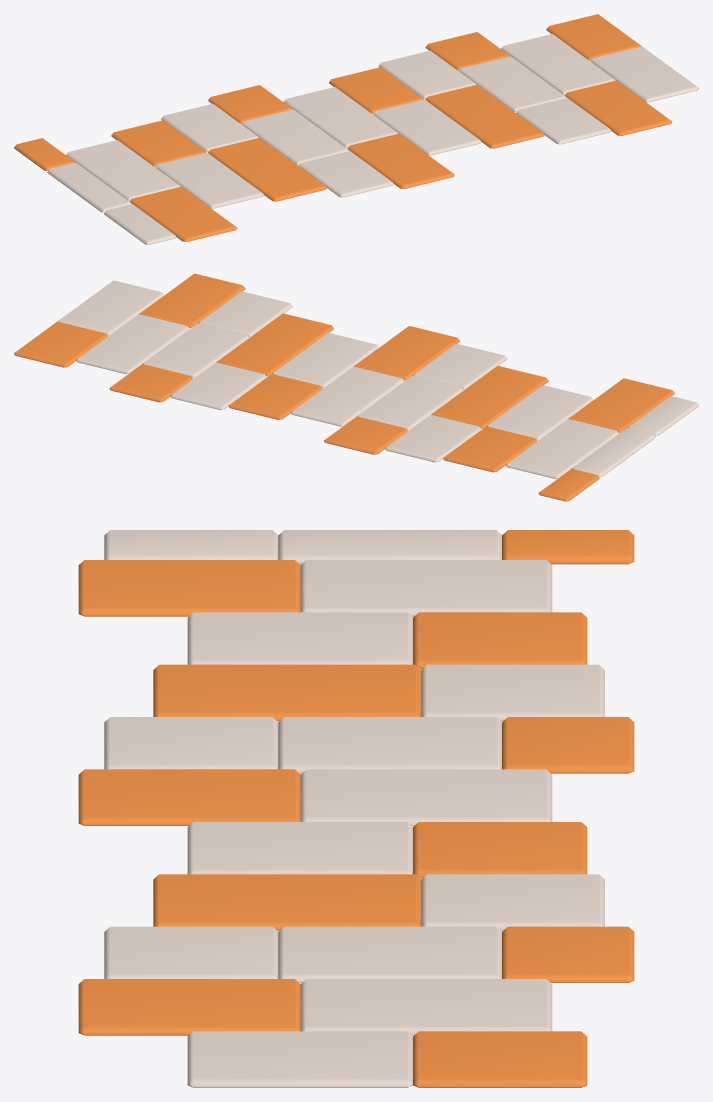
Rendered from brick.fbx.
The picture shows the model from 3 angles, top to bottom: view 1: azimuth 30°, elevation 25°; view 2: azimuth 150°, elevation 25°; view 3: azimuth 270°, elevation 25°; orthographic projection. The views are drawn at different scales.
Visible parts, largest first — view 1: Brick; view 2: Brick; view 3: Brick.
Boxes of the visible parts, x1=… form: Brick: x1=14, y1=14, x2=698, y2=244; Brick: x1=14, y1=273, x2=698, y2=501; Brick: x1=78, y1=530, x2=634, y2=1087.
Size of the model in its own units: 5.18 by 0.0295 by 2.2.
